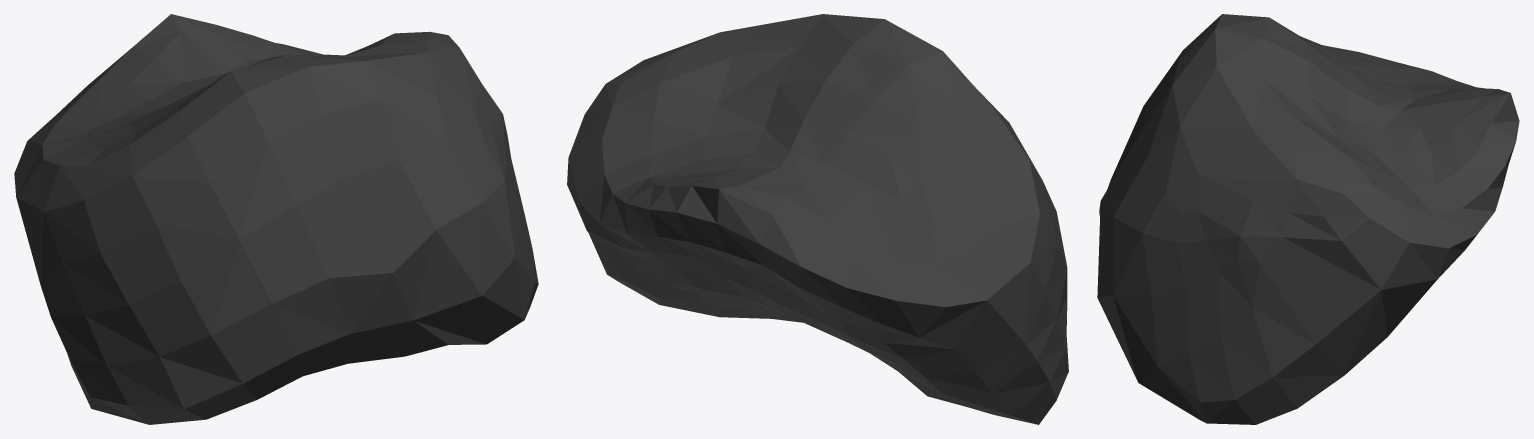
File: RFL_P2.glb
The picture shows the model from 3 angles, left to right: view 1: azimuth 30°, elevation 25°; view 2: azimuth 150°, elevation 25°; view 3: azimuth 270°, elevation 25°; orthographic projection. The views are drawn at different scales.
Parts seen in each view (by area): view 1: RFL_P2; view 2: RFL_P2; view 3: RFL_P2.
Part boxes in pixels (x1,y1,x2,y2): RFL_P2: (14, 14, 538, 424); RFL_P2: (567, 14, 1068, 424); RFL_P2: (1097, 14, 1519, 424).
Size of the model in its own units: 11.38 by 8.12 by 9.53.
1 material, 1 textured.
